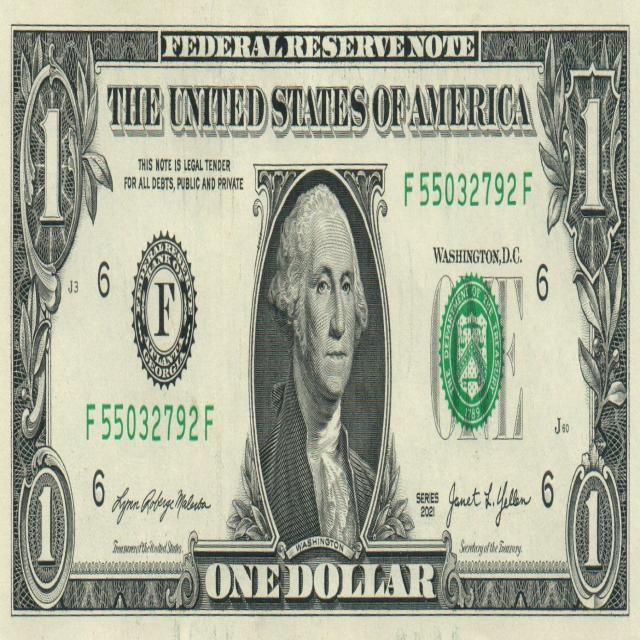SerialNumber: (87, 404, 213, 441), (405, 171, 532, 206)
